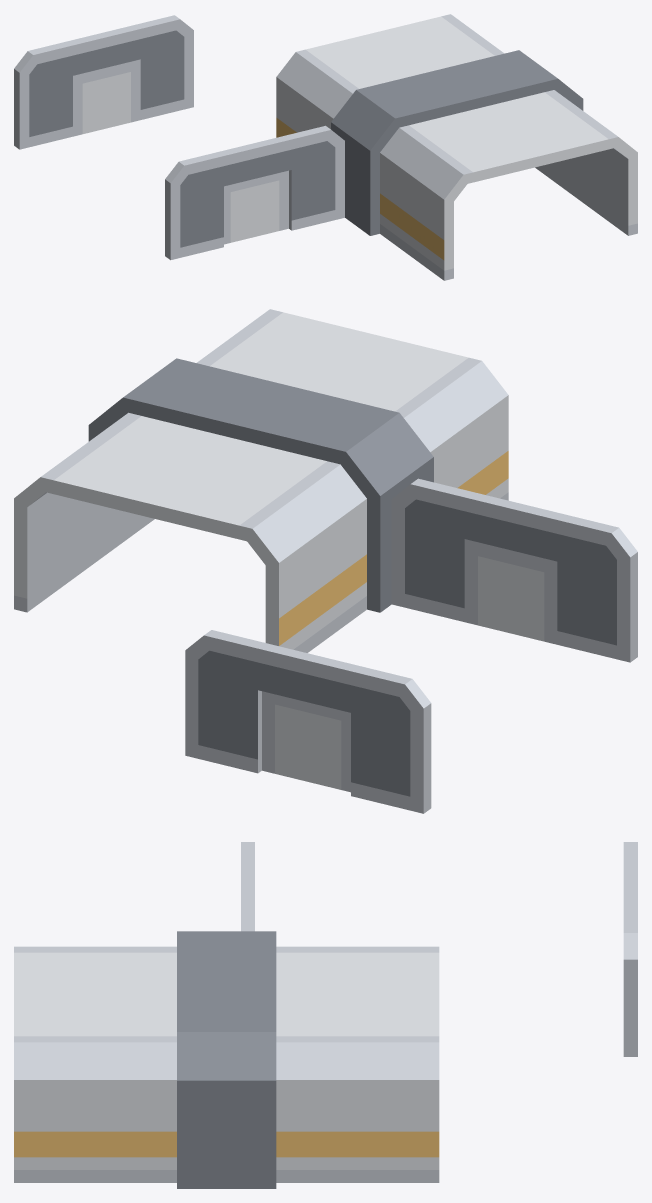
The model's file is hangar_largeB.glb.
3 views of the same model, one above another, from view 1: azimuth 30°, elevation 25°; view 2: azimuth 150°, elevation 25°; view 3: azimuth 270°, elevation 25° (orthographic). The views are drawn at different scales.
Parts seen in each view (by area): view 1: hangar_largeB, gate.002, gate.003; view 2: hangar_largeB, gate.003, gate.002; view 3: hangar_largeB, gate.002, gate.003.
Boxes of the visible parts, x1,y1,x2,y2 form: hangar_largeB: (276, 14, 637, 280); gate.002: (14, 15, 193, 149); gate.003: (165, 125, 344, 260); hangar_largeB: (14, 309, 508, 652); gate.003: (391, 478, 637, 662); gate.002: (185, 630, 431, 813); hangar_largeB: (14, 931, 439, 1188); gate.002: (623, 842, 637, 1056); gate.003: (241, 842, 254, 931).
Bounding box in the file's own units: 4 × 1.1 × 4.4.
